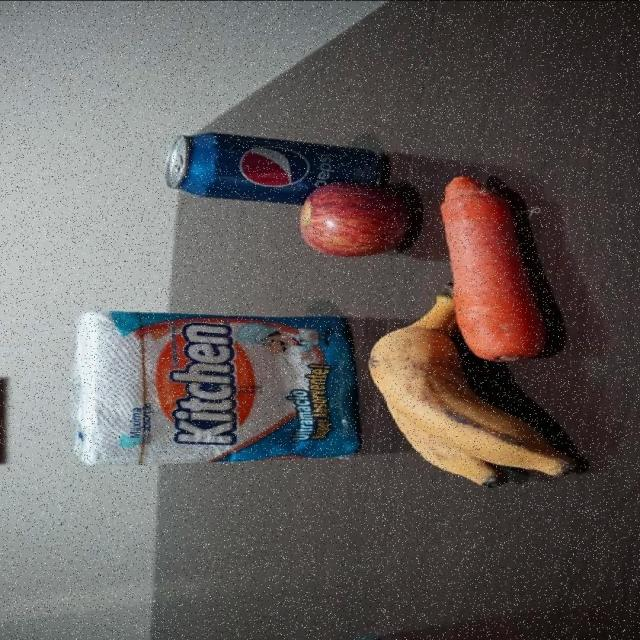Apple: (297, 180, 419, 258)
Banana: (365, 282, 579, 488)
Carrot: (434, 174, 546, 362)
Napkin: (73, 307, 361, 468)
SodaCan: (162, 130, 393, 208)
